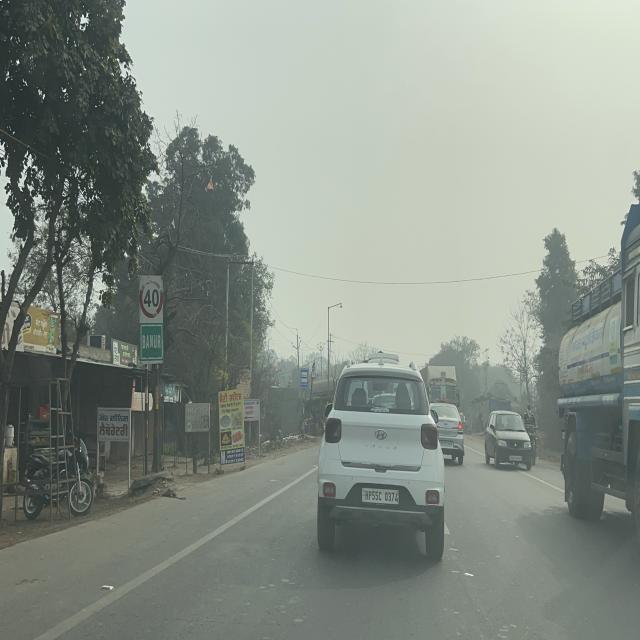GENERAL: (140, 323, 163, 363)
INFORMATION: (300, 369, 308, 388)
SPEED_LIMIT_40: (139, 275, 163, 320)
